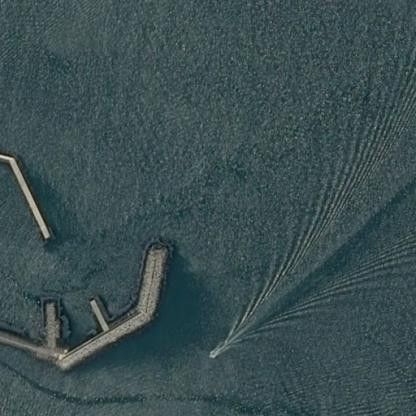ship: (209, 333, 215, 341)
